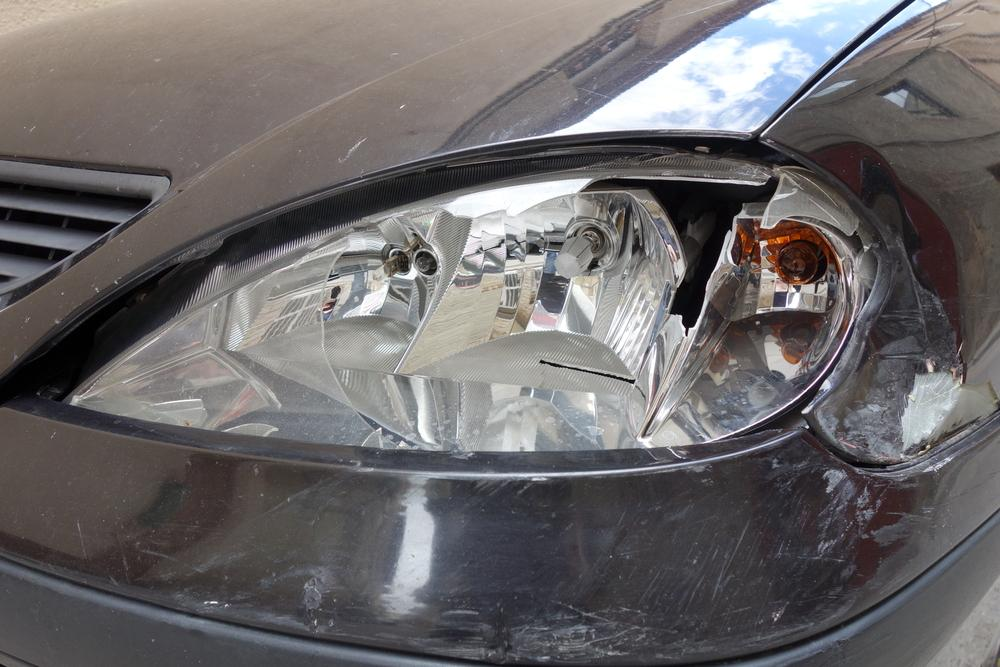dent: (810, 141, 965, 457)
lamp broken: (5, 147, 876, 453)
scratch: (165, 473, 833, 658)
